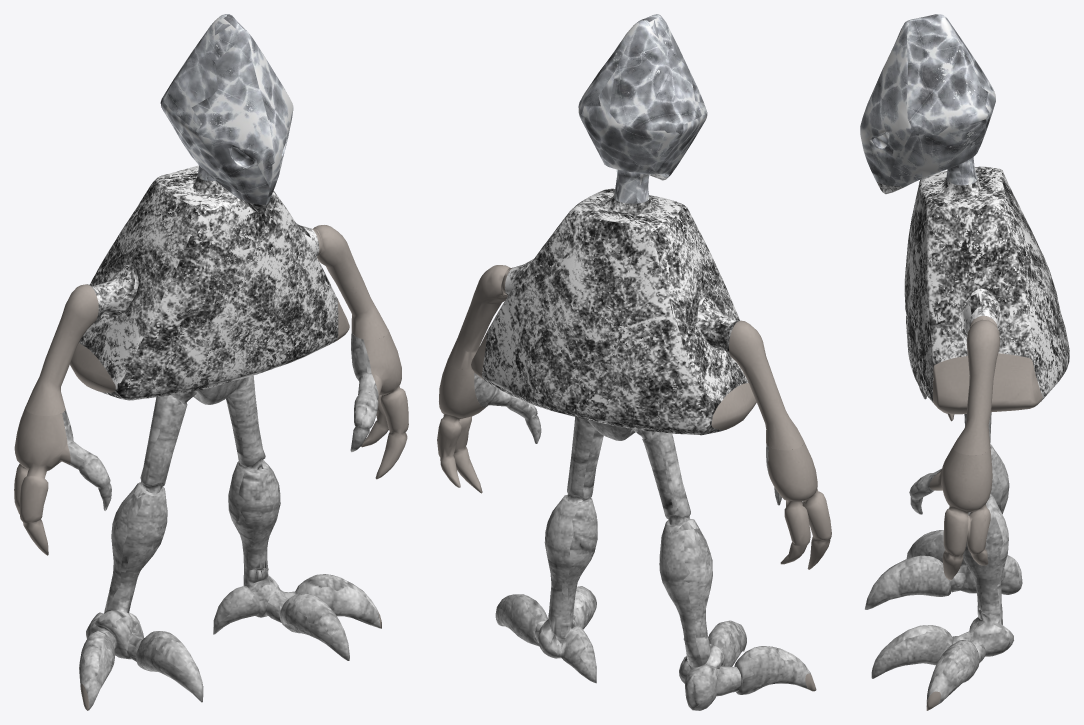
Rendered from 06-ridge-triad--robot_3d_model1.glb.
3 renders of one model, left to right at view 1: azimuth 30°, elevation 25°; view 2: azimuth 150°, elevation 25°; view 3: azimuth 270°, elevation 25°, orthographic. The views are drawn at different scales.
Parts seen in each view (by area): view 1: body_mesh, feet_mesh, arms_mesh, head_mesh; view 2: body_mesh, feet_mesh, arms_mesh, head_mesh; view 3: body_mesh, head_mesh, feet_mesh, arms_mesh.
Boxes of the visible parts, x1,y1,x2,y2 form: body_mesh: (79,165,338,400); feet_mesh: (62,331,380,709); arms_mesh: (14,225,408,710); head_mesh: (160,14,293,204); body_mesh: (482,174,748,435); feet_mesh: (474,373,811,710); arms_mesh: (437,265,831,691); head_mesh: (578,14,707,203); body_mesh: (877,166,1069,404); head_mesh: (860,14,995,186); feet_mesh: (865,387,1022,705); arms_mesh: (926,315,1042,710).
Bounding box in the file's own units: 1.88 × 3 × 0.911.
Materials: 4 (4 with a texture image).
